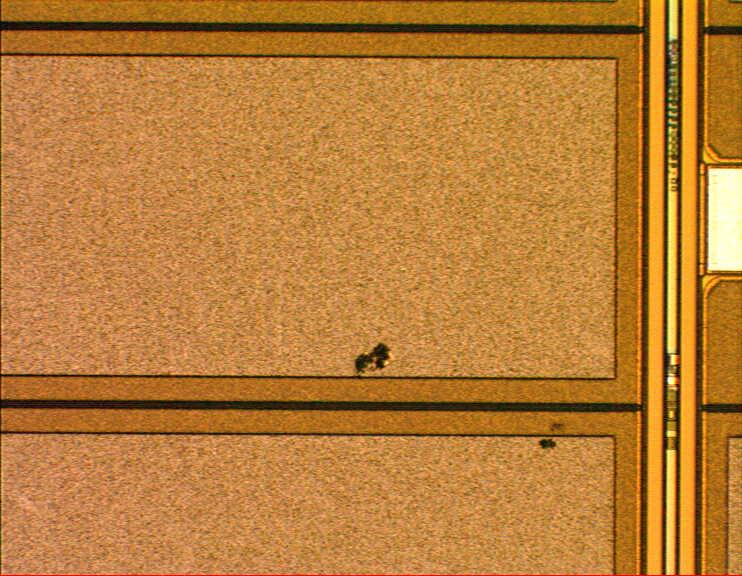PIQ PARTICLE: (347, 337, 577, 462)
